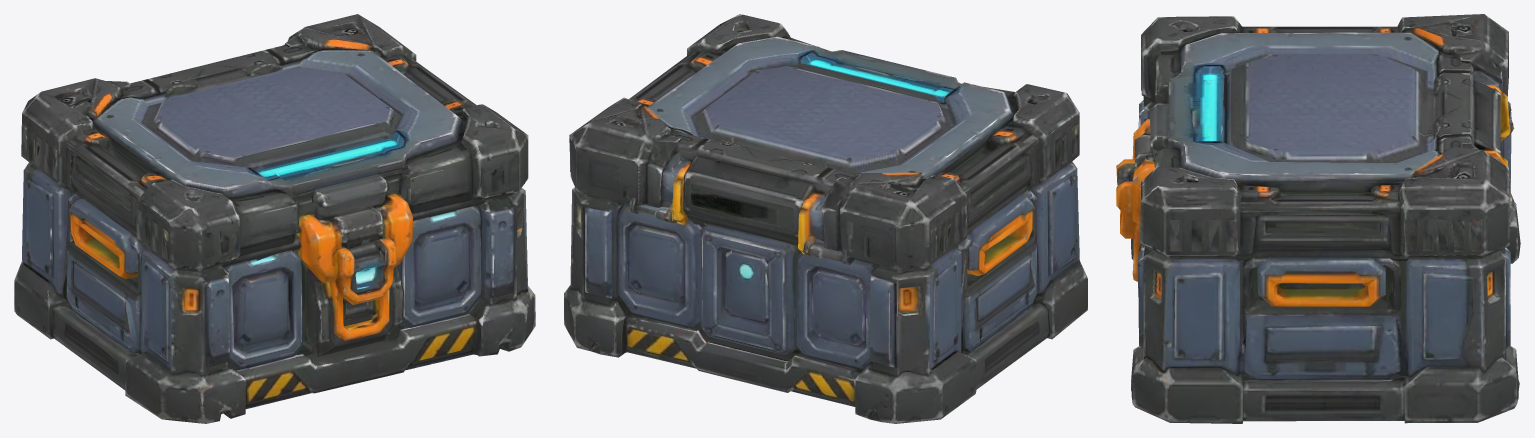
The model's file is huge_chest.glb.
3 views of the same model, side by side, from view 1: azimuth 30°, elevation 25°; view 2: azimuth 150°, elevation 25°; view 3: azimuth 270°, elevation 25° (orthographic). The views are drawn at different scales.
Visible parts, largest first — view 1: mesh_node; view 2: mesh_node; view 3: mesh_node.
Part boxes in pixels (box(x1,y1,x2,y2)): mesh_node: box(14, 14, 535, 423); mesh_node: box(564, 14, 1087, 423); mesh_node: box(1116, 14, 1520, 423).
Bounding box in the file's own units: 1 × 0.5507 × 0.8711.
1 material, 1 textured.
